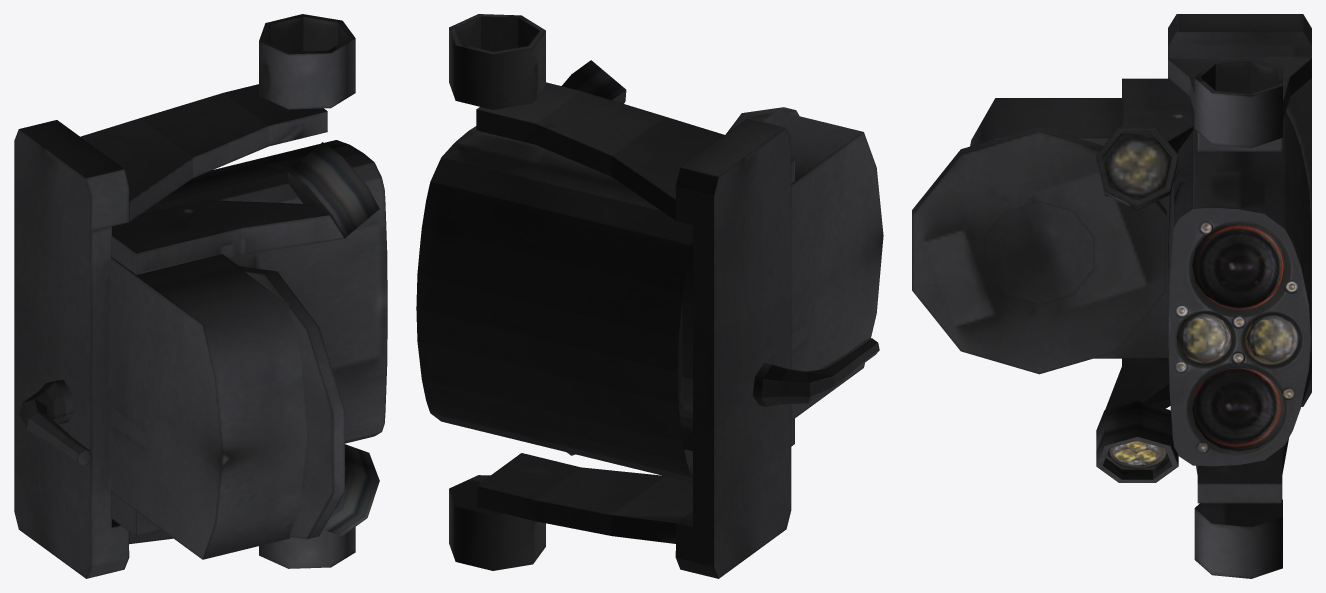
File: head.obj
3 renders of one model, left to right at view 1: azimuth 30°, elevation 25°; view 2: azimuth 150°, elevation 25°; view 3: azimuth 270°, elevation 25°, orthographic. The views are drawn at different scales.
Parts seen in each view (by area): view 1: head_ncl1_1; view 2: head_ncl1_1; view 3: head_ncl1_1.
Part boxes in pixels (box(x1,y1,x2,y2)): head_ncl1_1: box(14, 14, 387, 578); head_ncl1_1: box(416, 14, 883, 578); head_ncl1_1: box(912, 14, 1311, 578).
Size of the model in its own units: 0.1679 by 0.235 by 0.1765.
1 material, 1 textured.
